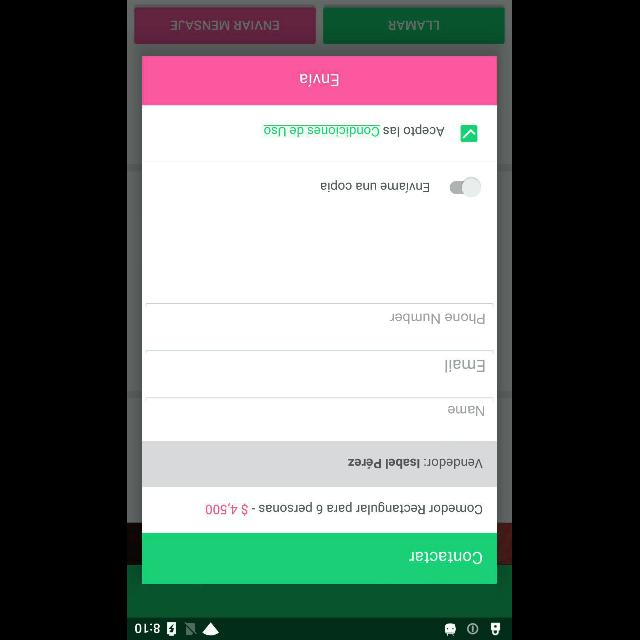checkbox: (462, 126, 478, 142)
input: (146, 351, 494, 374), (146, 303, 494, 325), (146, 398, 494, 417)
panel: (142, 56, 498, 584)
switch: (451, 177, 482, 197)
text: (205, 502, 483, 516), (261, 124, 445, 138), (344, 455, 484, 469), (319, 179, 431, 193), (409, 550, 483, 564), (390, 314, 486, 324), (446, 359, 486, 373), (448, 406, 486, 416)
textbutton: (142, 56, 498, 104), (323, 8, 505, 44), (135, 8, 317, 44)
uppertaskbar: (128, 617, 512, 639)
